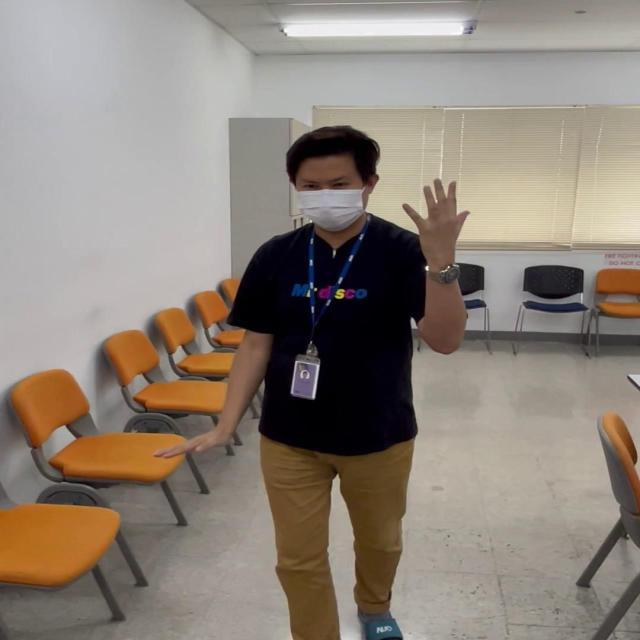bare_hand: (398, 174, 472, 249), (152, 416, 249, 461)
